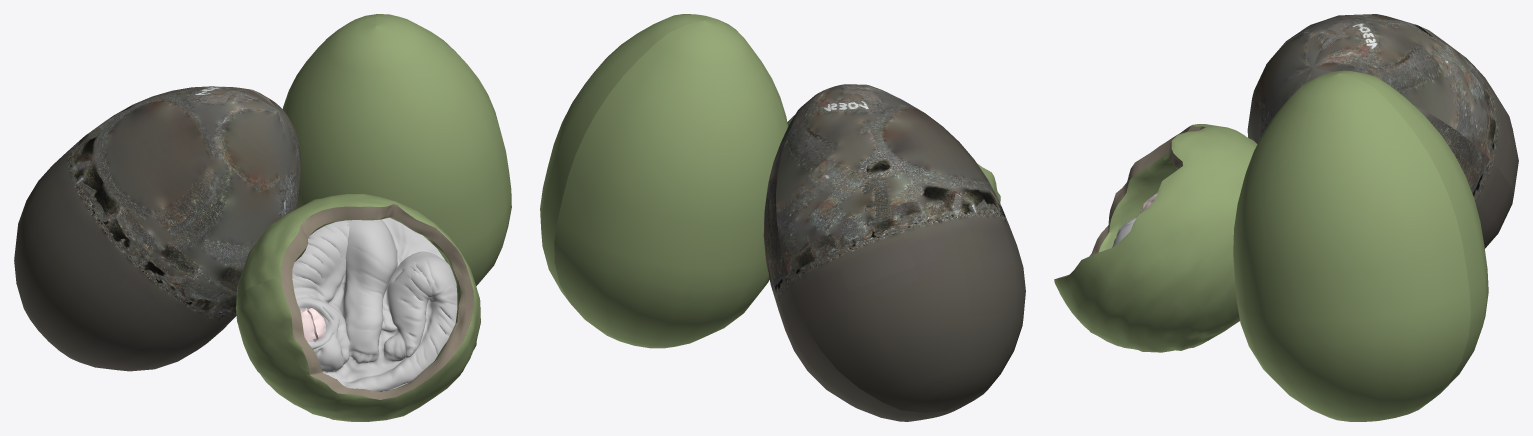
Rendered from huevos.fbx.
3 renders of one model, left to right at view 1: azimuth 30°, elevation 25°; view 2: azimuth 150°, elevation 25°; view 3: azimuth 270°, elevation 25°, orthographic. The views are drawn at different scales.
Visible parts, largest first — view 1: 1-_blinn1SG.001, 1-_blinn1SG, 3-_dinosaurio, 2-_cascaraHuevo1, 1-_bordeHuevo1, 5-_ojo1; view 2: 1-_blinn1SG.001, 1-_blinn1SG; view 3: 1-_blinn1SG, 2-_cascaraHuevo1, 1-_blinn1SG.001, 1-_bordeHuevo1.
Boxes of the visible parts, x1,y1,x2,y2 form: 1-_blinn1SG.001: [14, 86, 300, 371]; 1-_blinn1SG: [282, 14, 511, 285]; 3-_dinosaurio: [292, 217, 457, 391]; 2-_cascaraHuevo1: [236, 194, 480, 421]; 1-_bordeHuevo1: [281, 204, 474, 399]; 5-_ojo1: [300, 308, 325, 341]; 1-_blinn1SG.001: [763, 84, 1025, 421]; 1-_blinn1SG: [540, 14, 787, 348]; 1-_blinn1SG: [1233, 70, 1488, 421]; 2-_cascaraHuevo1: [1054, 124, 1257, 352]; 1-_blinn1SG.001: [1247, 14, 1518, 248]; 1-_bordeHuevo1: [1055, 126, 1204, 279].
Size of the model in its own units: 1124 by 722 by 945.
